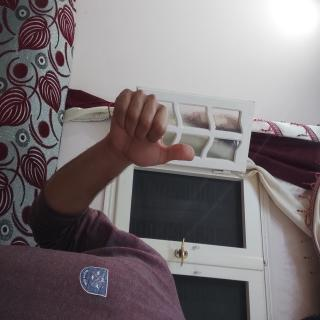ALIF: (61, 162, 132, 292)
